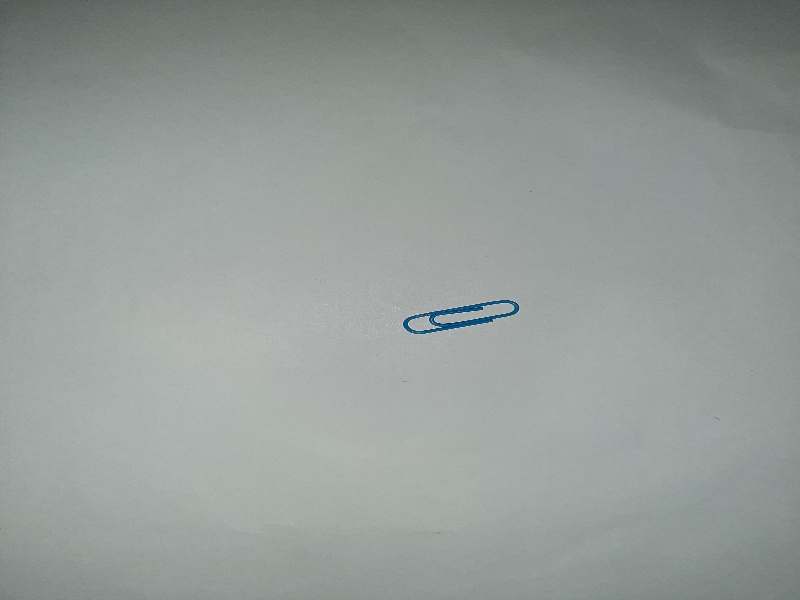Small Jumpclip: (393, 296, 528, 339)
